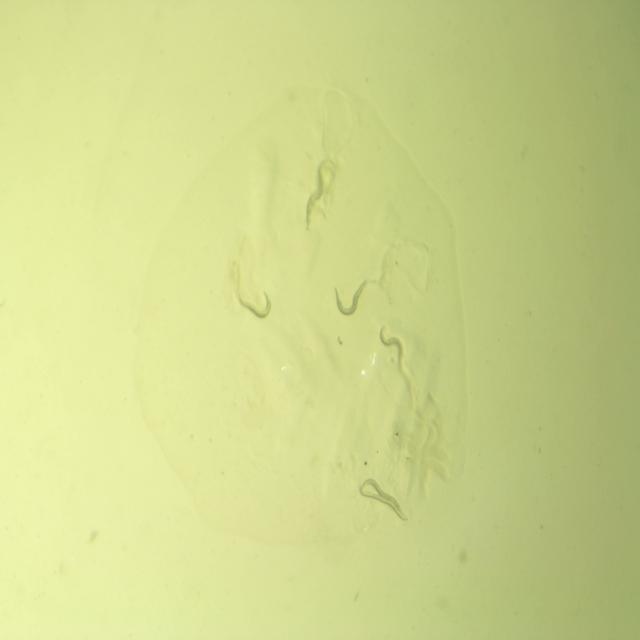worm: (234, 281, 286, 340), (295, 159, 332, 235), (316, 272, 373, 321), (357, 481, 409, 526), (360, 476, 410, 522), (372, 310, 406, 372)
